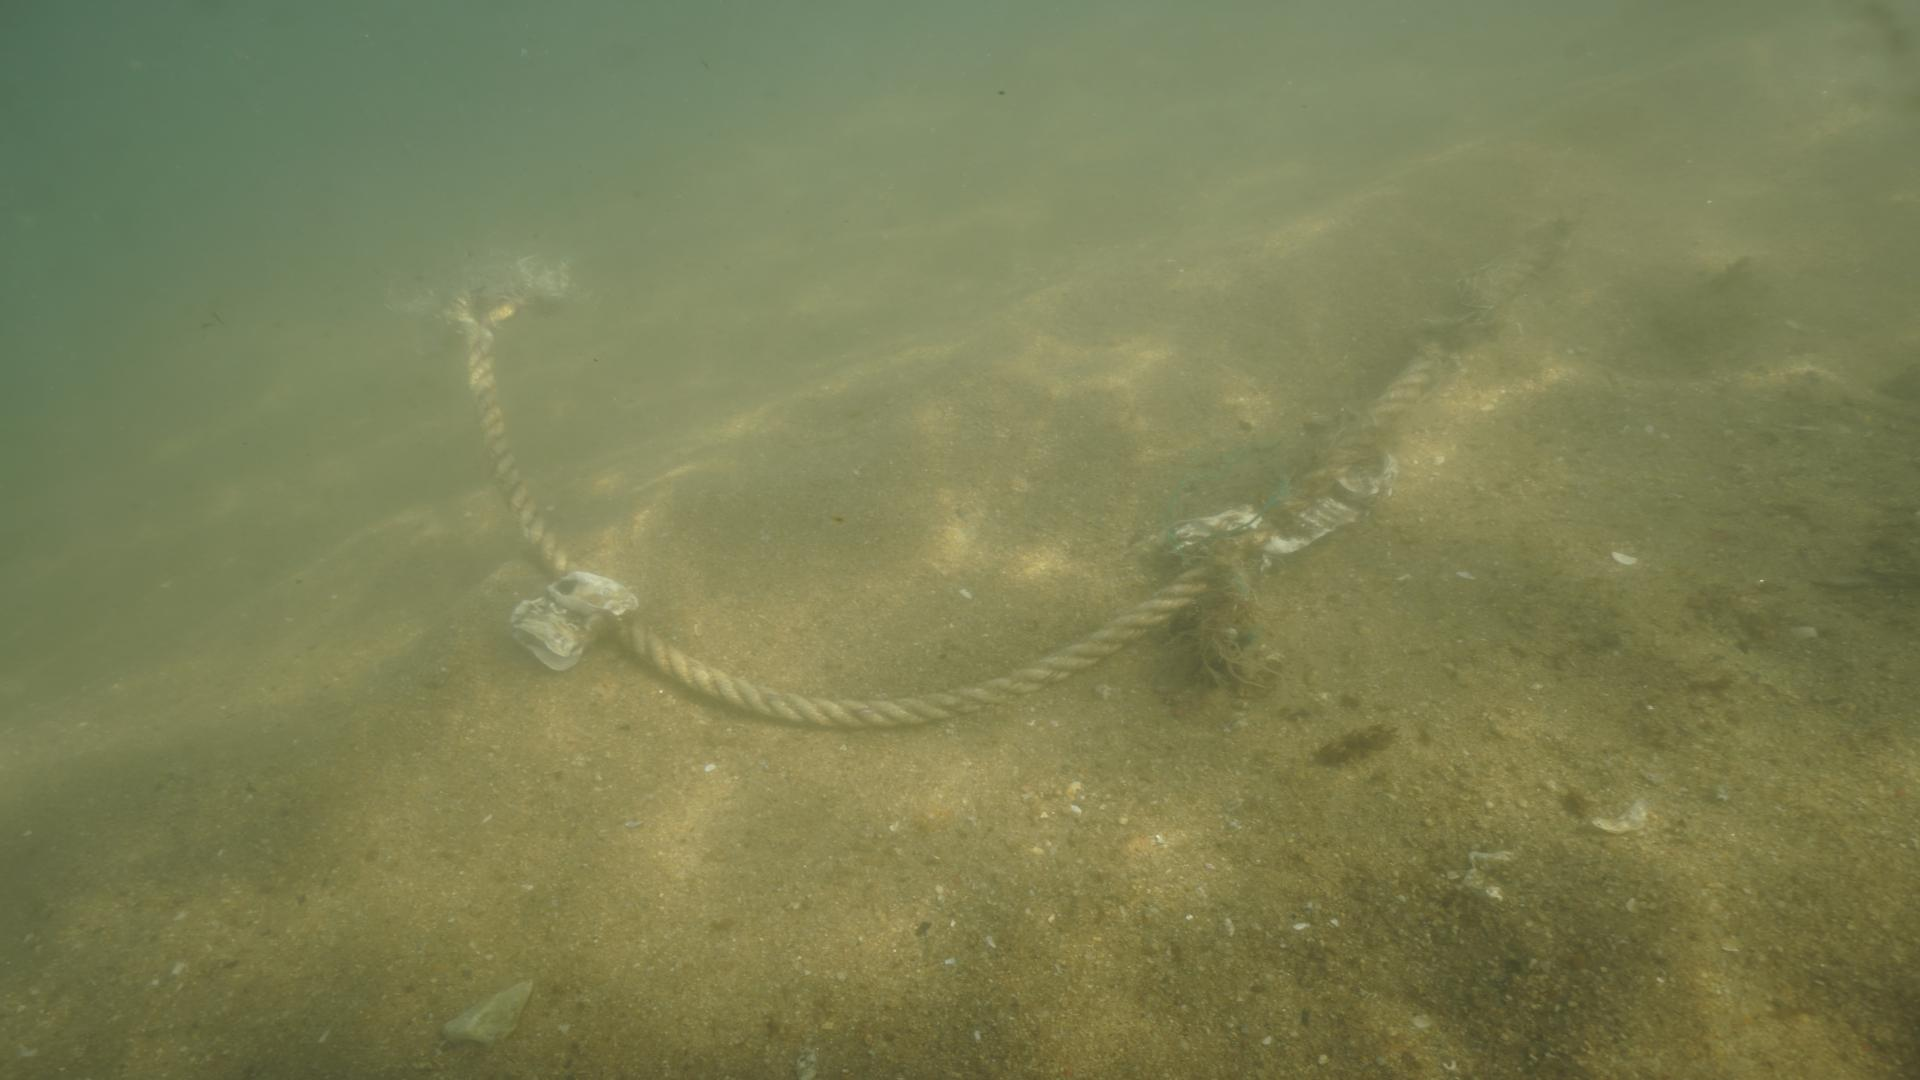rope: (454, 202, 1576, 731)
